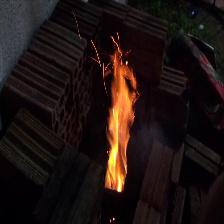fire: (101, 41, 141, 194)
